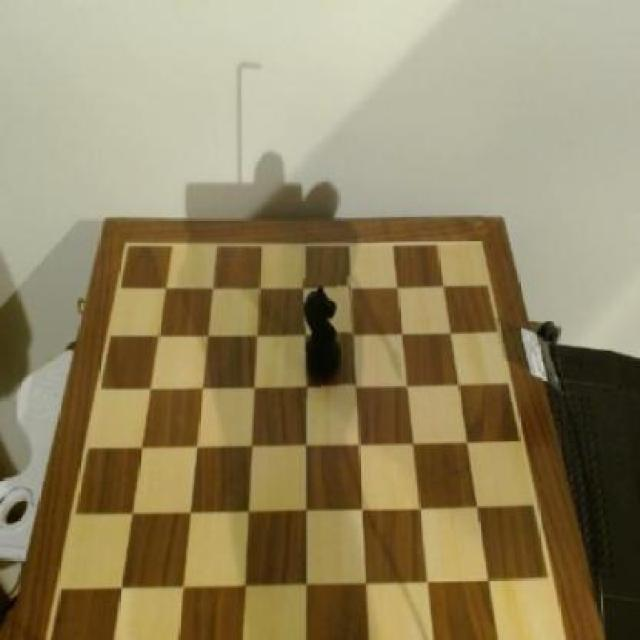black-king: (303, 278, 355, 399)
